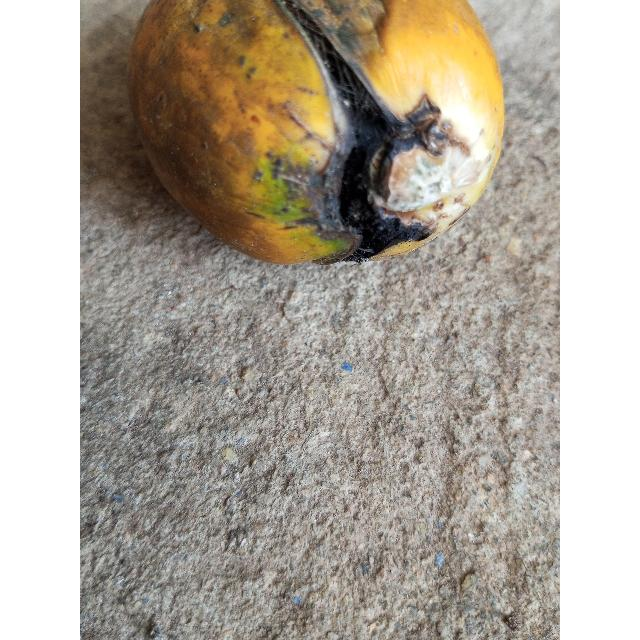damaged: (127, 0, 506, 267)
